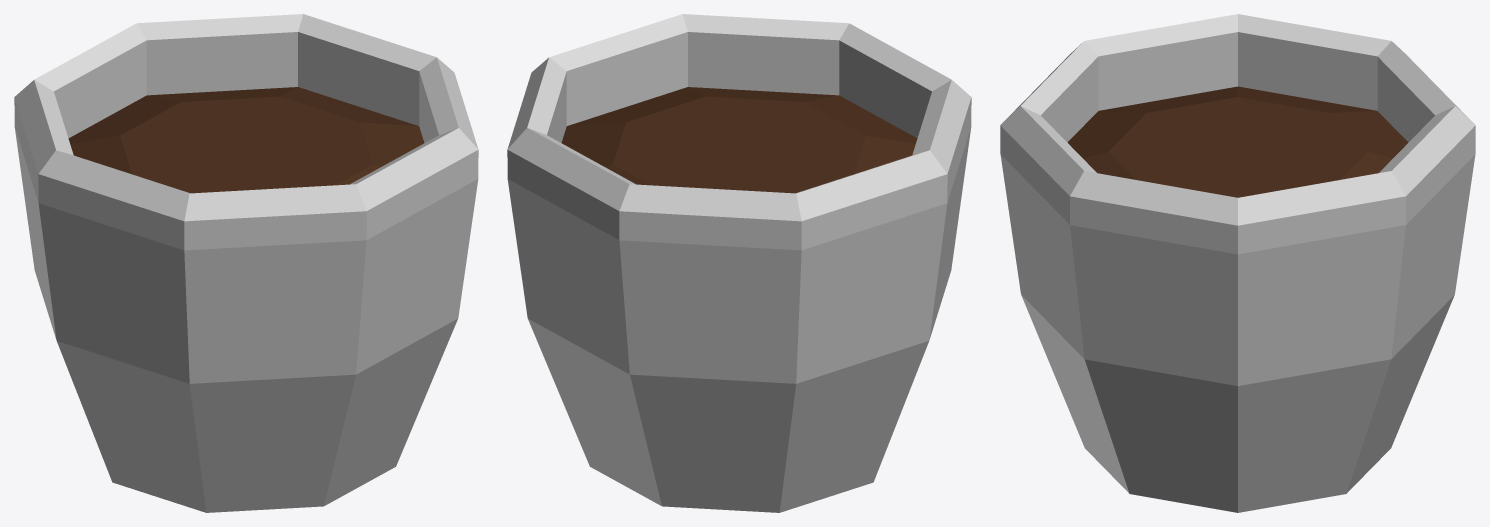
The model's file is Flower_Pot_Medium.fbx.
The picture shows the model from 3 angles, left to right: view 1: azimuth 30°, elevation 25°; view 2: azimuth 150°, elevation 25°; view 3: azimuth 270°, elevation 25°; orthographic projection.
Parts seen in each view (by area): view 1: Cube; view 2: Cube; view 3: Cube.
Part boxes in pixels (x1,y1,x2,y2): Cube: [14, 14, 478, 512]; Cube: [507, 14, 971, 512]; Cube: [1000, 14, 1475, 512].
Size of the model in its own units: 43.48 by 34.56 by 43.48.
